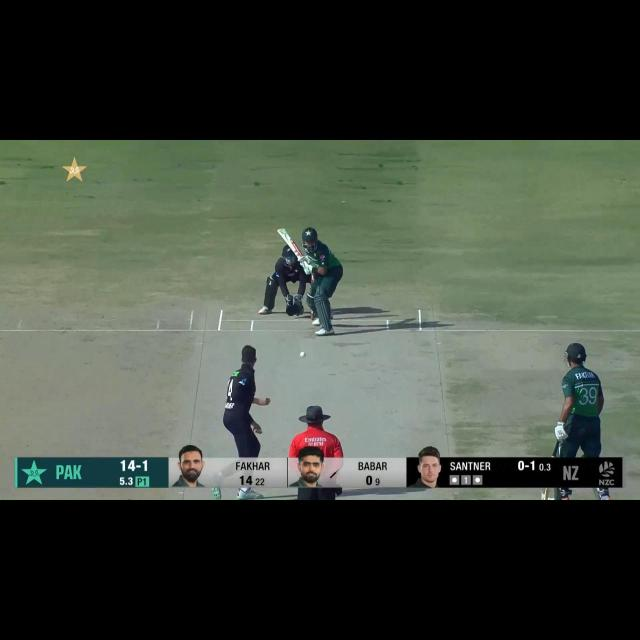bat: (277, 228, 304, 261), (536, 487, 552, 501)
toe: (275, 227, 289, 237), (538, 494, 550, 501)
